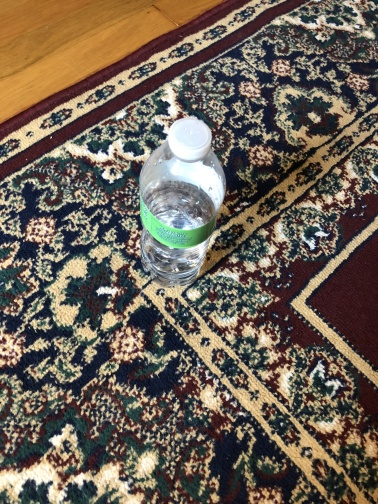bottle: (133, 113, 230, 291)
